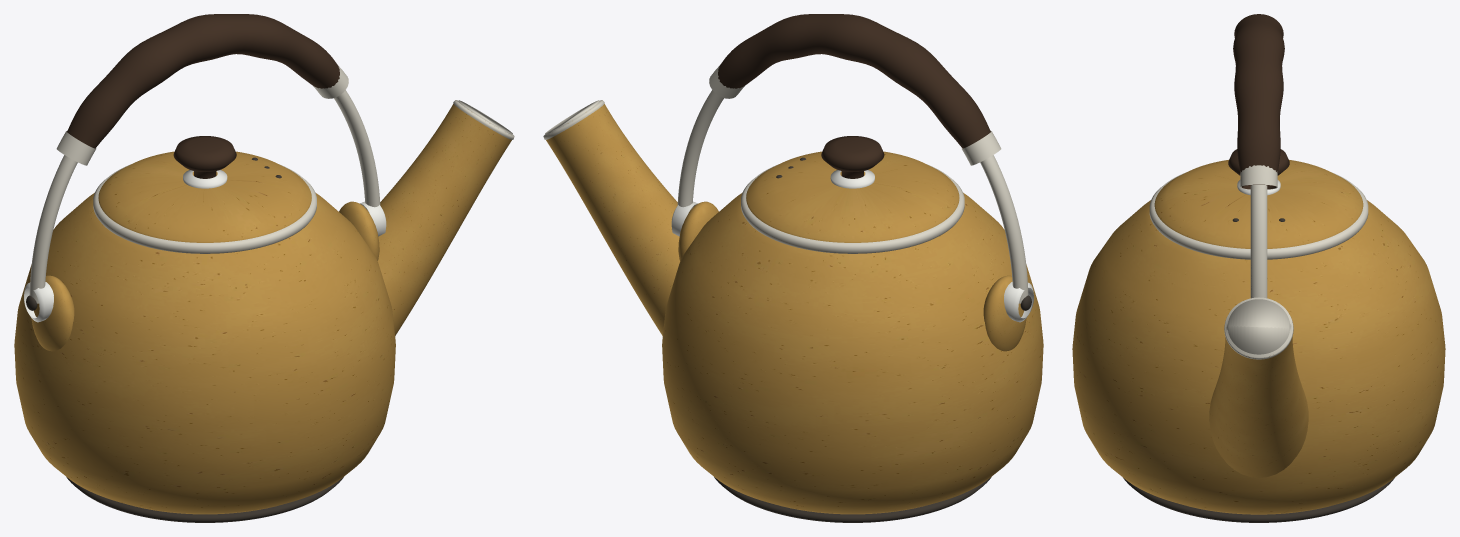
The model's file is tea-service.glb.
3 views of the same model, side by side, from view 1: azimuth 30°, elevation 25°; view 2: azimuth 150°, elevation 25°; view 3: azimuth 270°, elevation 25° (orthographic). The views are drawn at different scales.
Visible parts, largest first — view 1: Drawn enamel body, Lift off domed lid, Swept enamel spout, Contoured phenolic handgrip, Spring steel handle, Bright collar, Heel and rolled heat ring, Turned lid knob, Enamelled handle cheek, Enamelled handle cheek.001, Grip ferrule.001, Nickel rivet (+1 smaller); view 2: Drawn enamel body, Lift off domed lid, Swept enamel spout, Contoured phenolic handgrip, Spring steel handle, Bright collar, Heel and rolled heat ring, Turned lid knob, Enamelled handle cheek, Enamelled handle cheek.001, Grip ferrule.001, Nickel rivet (+1 smaller); view 3: Drawn enamel body, Lift off domed lid, Swept enamel spout, Contoured phenolic handgrip, Turned lip and inside throat, Bright collar, Heel and rolled heat ring, Spring steel handle, Grip ferrule.
Part boxes in pixels (x1,y1,x2,y2): Drawn enamel body: [14, 173, 395, 514]; Lift off domed lid: [98, 151, 311, 242]; Swept enamel spout: [377, 104, 511, 335]; Contoured phenolic handgrip: [67, 14, 339, 148]; Spring steel handle: [29, 90, 380, 303]; Bright collar: [93, 164, 316, 253]; Heel and rolled heat ring: [66, 477, 343, 522]; Turned lid knob: [173, 136, 236, 178]; Enamelled handle cheek: [31, 275, 74, 351]; Enamelled handle cheek.001: [339, 201, 379, 260]; Grip ferrule.001: [56, 131, 96, 165]; Nickel rivet: [24, 282, 53, 322]; Drawn enamel body: [662, 173, 1043, 514]; Lift off domed lid: [746, 151, 959, 242]; Swept enamel spout: [546, 104, 680, 335]; Contoured phenolic handgrip: [718, 14, 990, 148]; Spring steel handle: [677, 90, 1028, 303]; Bright collar: [741, 164, 964, 253]; Heel and rolled heat ring: [714, 477, 991, 522]; Turned lid knob: [821, 136, 884, 178]; Enamelled handle cheek: [983, 275, 1026, 351]; Enamelled handle cheek.001: [678, 201, 718, 260]; Grip ferrule.001: [961, 131, 1001, 165]; Nickel rivet: [1004, 282, 1033, 322]; Drawn enamel body: [1072, 200, 1445, 514]; Lift off domed lid: [1154, 160, 1363, 248]; Swept enamel spout: [1209, 337, 1308, 477]; Contoured phenolic handgrip: [1233, 14, 1284, 189]; Turned lip and inside throat: [1224, 297, 1293, 359]; Bright collar: [1149, 172, 1368, 259]; Heel and rolled heat ring: [1123, 478, 1394, 522]; Spring steel handle: [1250, 185, 1267, 298]; Grip ferrule: [1240, 165, 1277, 189].
Bounding box in the file's own units: 0.3525 × 0.3128 × 0.242.
9 materials, 1 textured.
